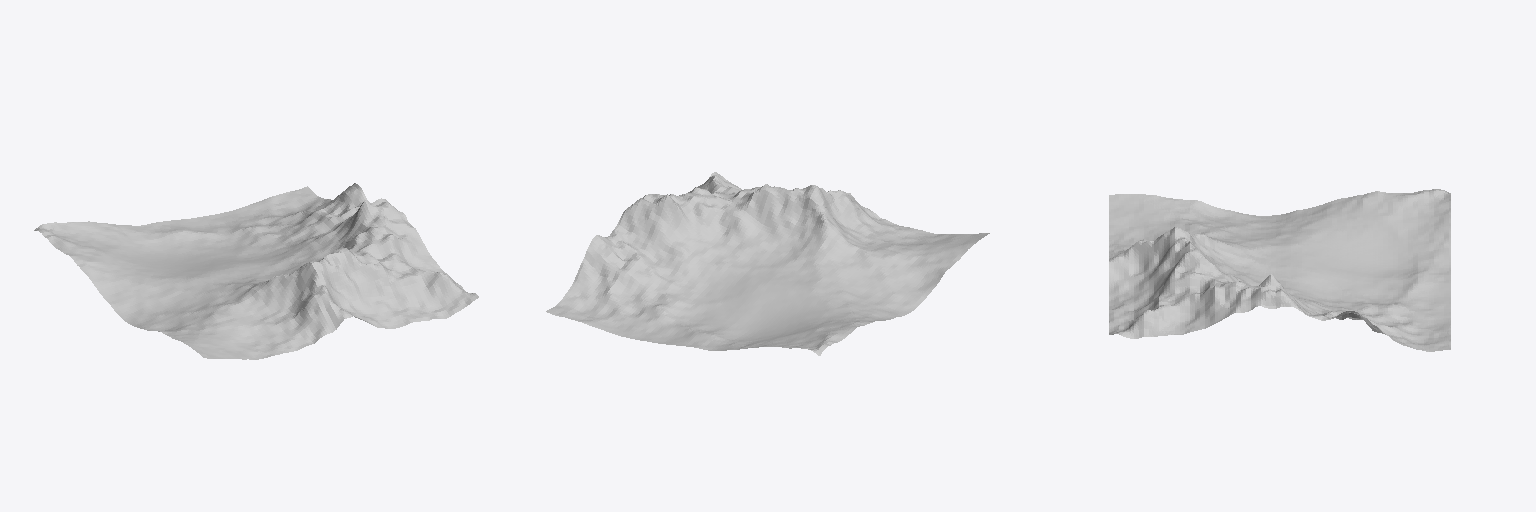
Rendered from ground10.obj.
3 renders of one model, left to right at view 1: azimuth 30°, elevation 25°; view 2: azimuth 150°, elevation 25°; view 3: azimuth 270°, elevation 25°, orthographic.
Visible parts, largest first — view 1: ground10; view 2: ground10; view 3: ground10.
Part boxes in pixels (bbox=[...]): ground10: bbox=[34, 183, 478, 359]; ground10: bbox=[546, 172, 989, 355]; ground10: bbox=[1109, 189, 1450, 351].
Bounding box in the file's own units: 82.58 × 18.9 × 89.19.